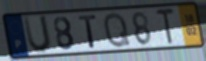8: (131, 11, 153, 47), (53, 16, 75, 51)
Q: (102, 10, 132, 49)
T: (155, 7, 177, 46), (77, 14, 99, 50)
U: (22, 14, 53, 55)
